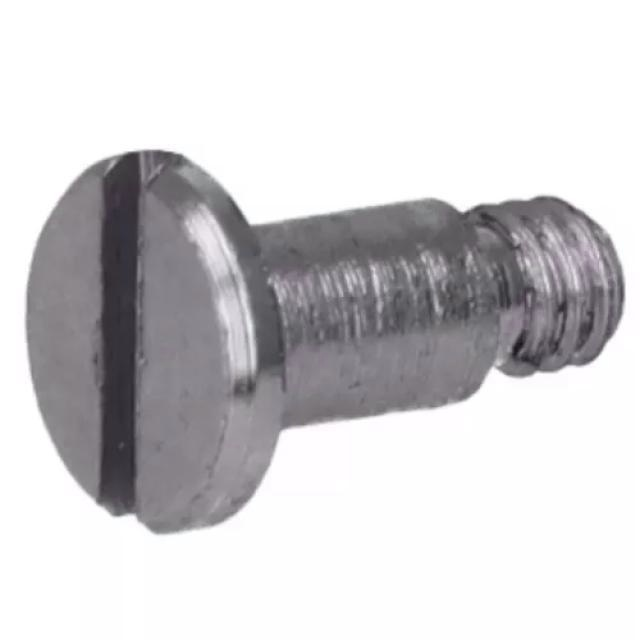duz: (24, 147, 287, 537)
